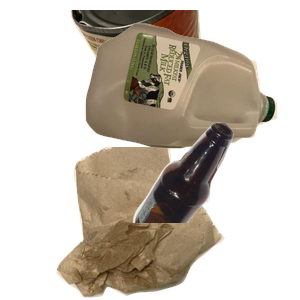glass: (130, 120, 300, 300)
metal: (68, 10, 265, 131)
plastic: (83, 21, 300, 162)
trash: (54, 147, 271, 300)
